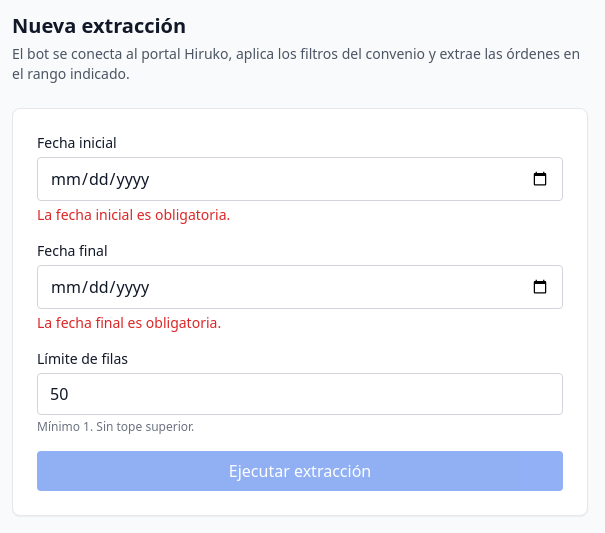
Test: NewExtraction › rejects a reversed date range
Type "2026-02-01" into the date field labelled "Fecha inicial" at (300, 179), box [37,157,563,201]
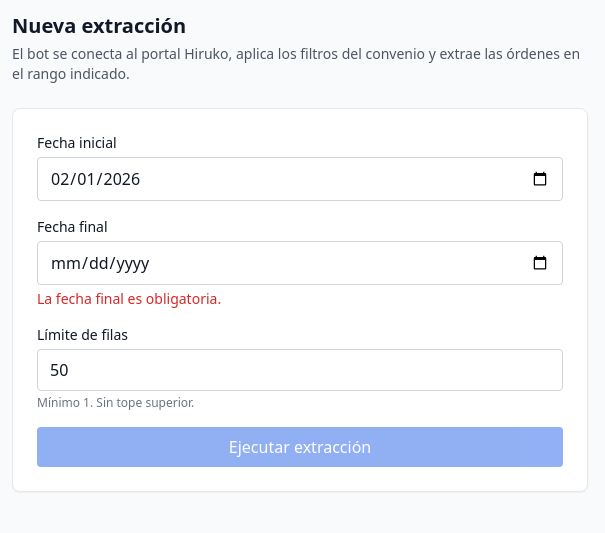
Type "2026-01-01" into the date field labelled "Fecha final" at (300, 263), box [37,241,563,285]
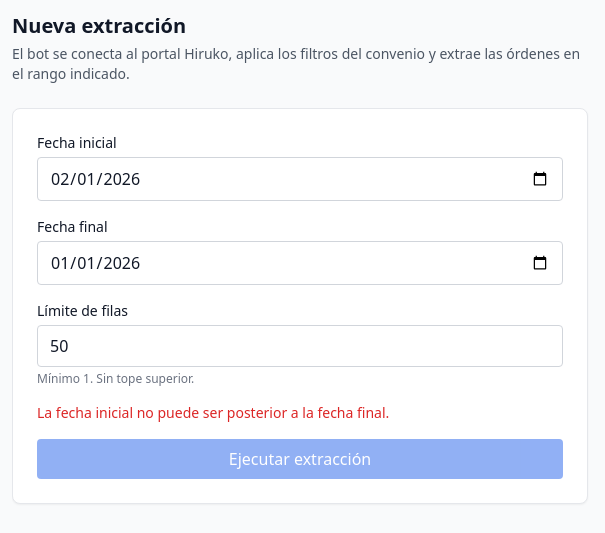
expect the text "La fecha inicial no puede ser posterior a la fecha final." is shown: met, box [37,403,389,422]
